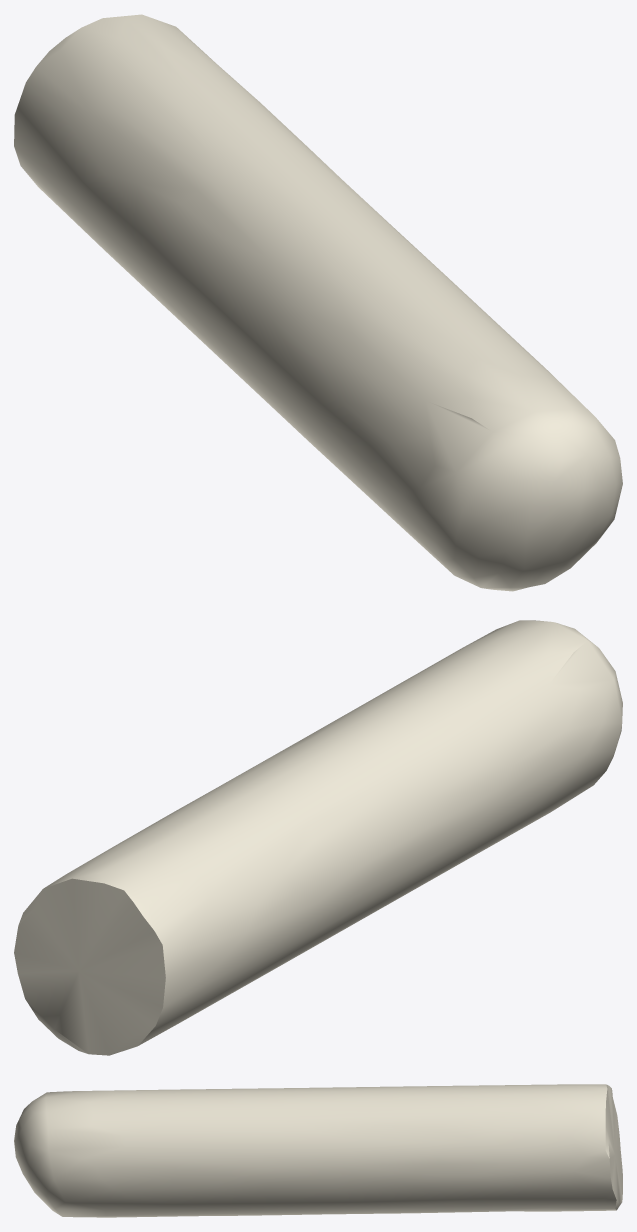
Rendered from fma54782_mm2079.glb.
3 views of the same model, one above another, from view 1: azimuth 30°, elevation 25°; view 2: azimuth 150°, elevation 25°; view 3: azimuth 270°, elevation 25° (orthographic). The views are drawn at different scales.
Visible parts, largest first — view 1: FMA54782_MM2079; view 2: FMA54782_MM2079; view 3: FMA54782_MM2079.
Part boxes in pixels (x1,y1,x2,y2): FMA54782_MM2079: (14, 14, 622, 591); FMA54782_MM2079: (14, 620, 622, 1055); FMA54782_MM2079: (14, 1084, 622, 1217).
Bounding box in the file's own units: 0.00358 × 0.00336 × 0.0138.
